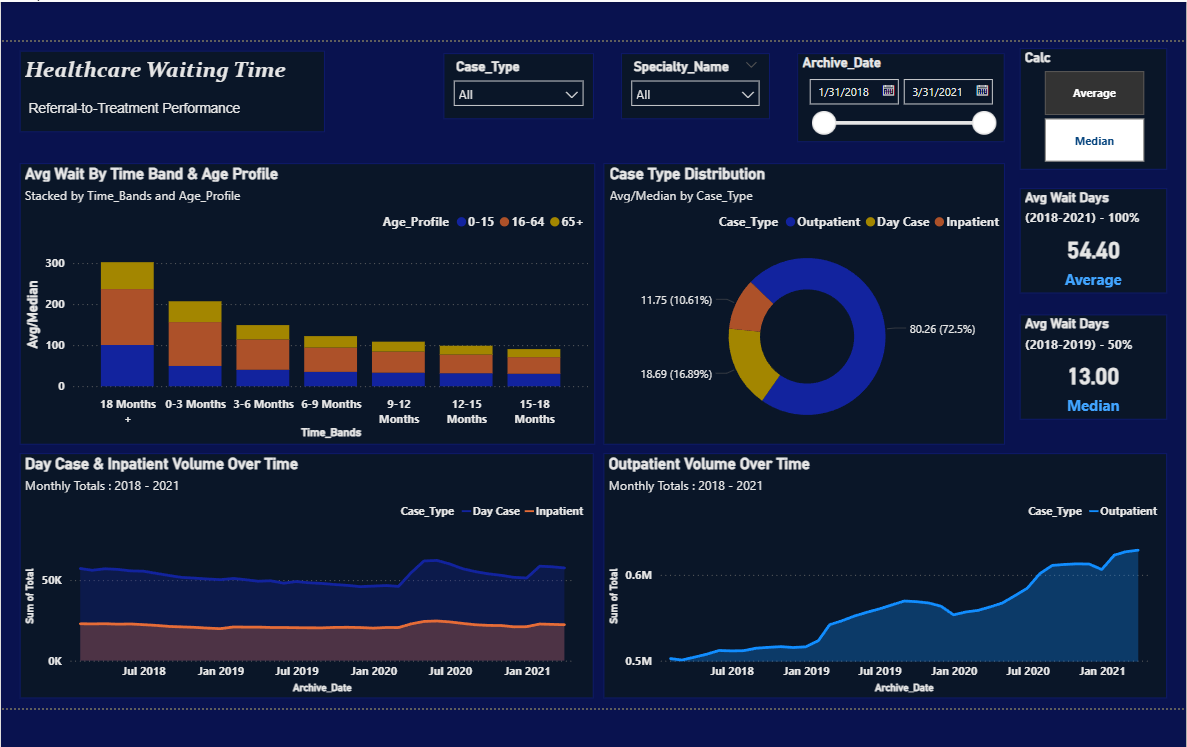

Layout of this report page (visuals, bound fields, positions):
{"tool":"powerbi","page":{"name":"Page 1","canvas":[1280,720],"ordinal":0},"visuals":[{"type":"card","title":"Avg Wait Days","fields":{"Values":["All_Data.Average"]},"box":[1100.7,158,159.4,113.4],"z":1000},{"type":"card","title":"Avg Wait Days","fields":{"Values":["All_Data.Median"]},"box":[1100.7,294.4,159.4,113.4],"z":2000},{"type":"slicer","title":"Calc","fields":{"Values":["help.Calc"]},"box":[1100.7,6.8,159.4,131],"z":3000},{"type":"donutChart","title":"Case Type Distribution","fields":{"Category":["All_Data.Case_Type"],"Y":["All_Data.Avg/Median"]},"box":[650.9,131,433.5,303.9],"z":4000},{"type":"columnChart","title":"Avg Wait By Time Band & Age Profile","fields":{"Category":["All_Data.Time_Bands"],"Series":["All_Data.Age_Profile"],"Y":["All_Data.Avg/Median"]},"box":[20.3,131,621.2,303.9],"z":5000},{"type":"slicer","fields":{"Values":["All_Data.Case_Type"]},"box":[478.1,12.2,162.1,71.6],"z":6000},{"type":"slicer","fields":{"Values":["All_Data.Specialty_Name"]},"box":[669.8,12.2,160.7,71.6],"z":7000},{"type":"slicer","title":"Archive_Date","fields":{"Values":["All_Data.Archive_Date"]},"box":[860.3,12.2,224.2,95.9],"z":8000},{"type":"lineChart","title":"Day Case & Inpatient Volume Over Time","fields":{"Y":["Sum(All_Data.Total)"],"Category":["All_Data.Archive_Date"],"Series":["All_Data.Case_Type"]},"box":[20.3,444.3,619.9,264.7],"z":9000},{"type":"lineChart","title":"Outpatient Volume Over Time","fields":{"Y":["Sum(All_Data.Total)"],"Category":["All_Data.Archive_Date"],"Series":["All_Data.Case_Type"]},"box":[650.9,444.3,609.1,264.7],"z":10000},{"type":"textbox","box":[20.3,9.5,329.5,87.8],"z":11000}]}

Visuals, with their boxes on the page's 1280x720 design canvas (x1, y1, x2, y2). These are canvas units, not pixel positions in the 1187x747 screenshot, which may show the page scaled, cropped or inside an application window:
"Avg Wait Days" card: [1101, 158, 1260, 271]
"Avg Wait Days" card: [1101, 294, 1260, 408]
"Calc" slicer: [1101, 7, 1260, 138]
"Case Type Distribution" donutChart: [651, 131, 1084, 435]
"Avg Wait By Time Band & Age Profile" columnChart: [20, 131, 642, 435]
slicer - All_Data.Case_Type: [478, 12, 640, 84]
slicer - All_Data.Specialty_Name: [670, 12, 830, 84]
"Archive_Date" slicer: [860, 12, 1084, 108]
"Day Case & Inpatient Volume Over Time" lineChart: [20, 444, 640, 709]
"Outpatient Volume Over Time" lineChart: [651, 444, 1260, 709]
textbox: [20, 10, 350, 97]
